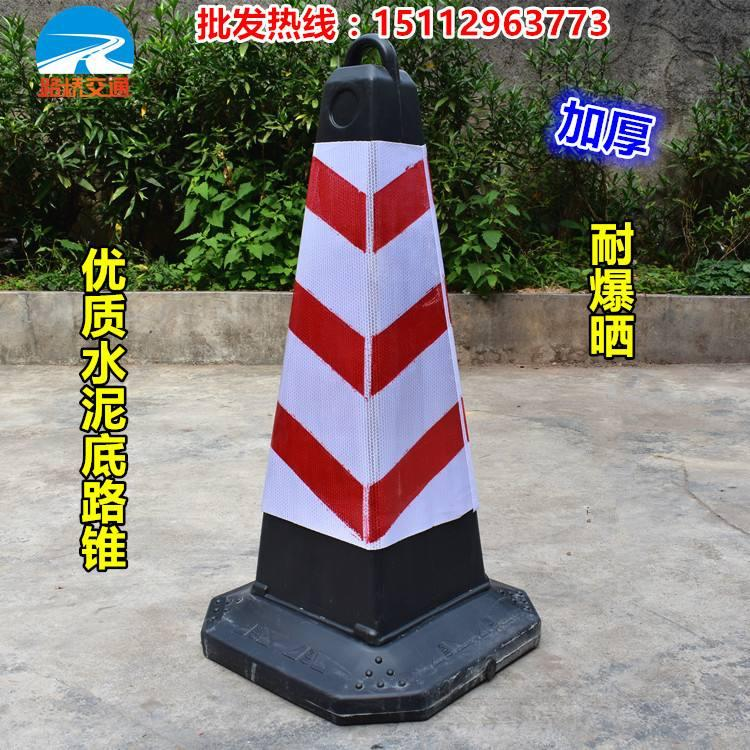sign: (197, 37, 552, 722)
